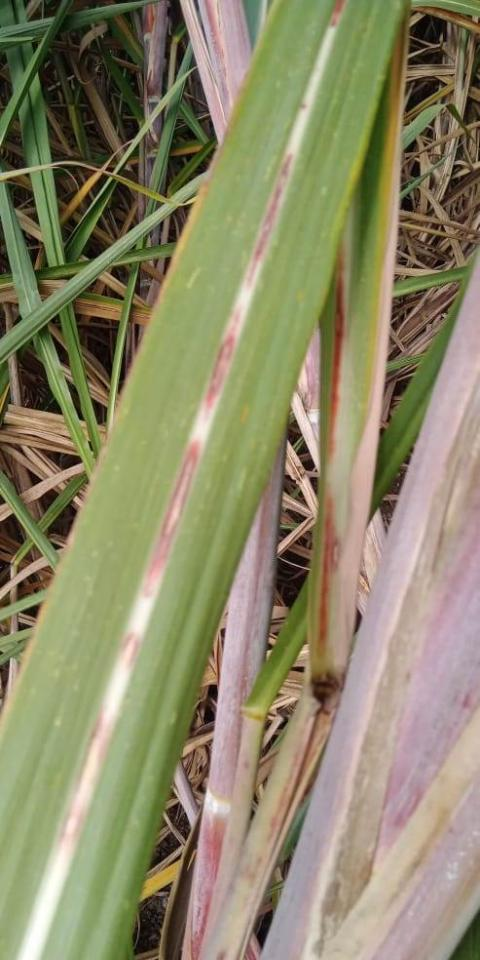RedRot: (135, 436, 207, 603), (250, 152, 295, 288), (203, 304, 243, 422), (74, 709, 117, 795), (114, 628, 144, 674), (55, 808, 87, 850), (328, 0, 348, 28), (300, 100, 308, 114)
